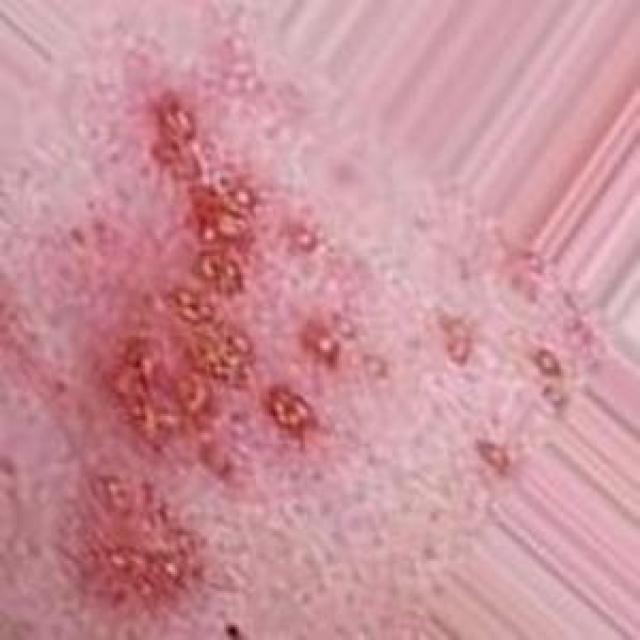Shingles: (84, 90, 351, 609)
